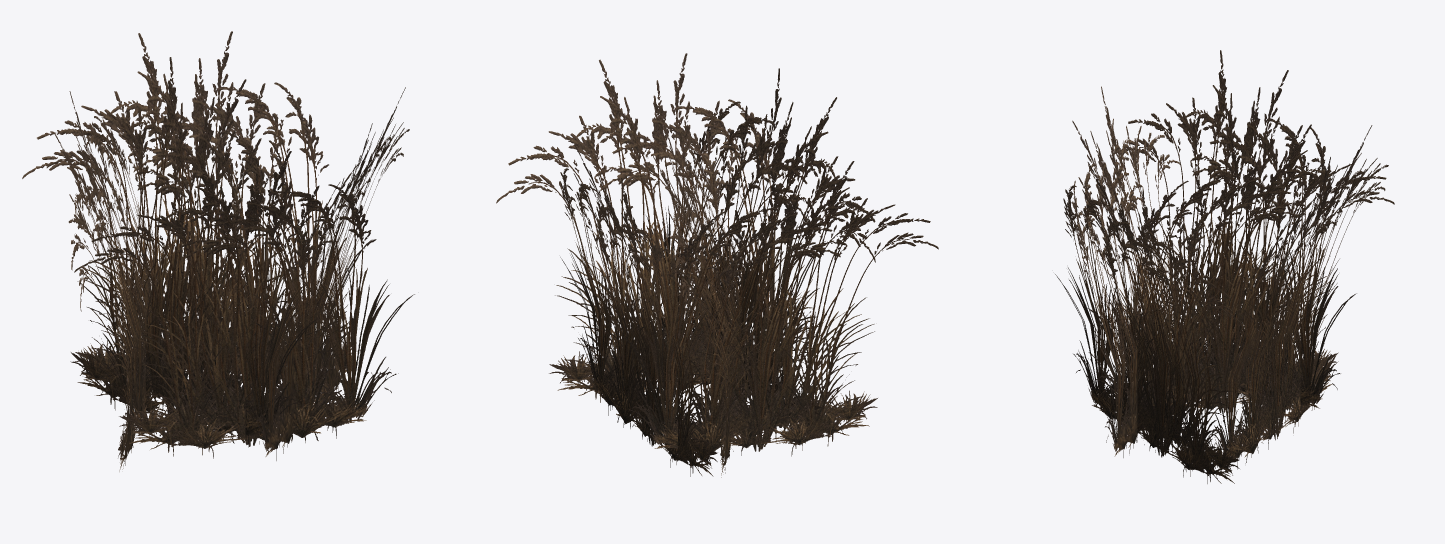
Rendered from grass_3.obj.
The picture shows the model from 3 angles, left to right: view 1: azimuth 30°, elevation 25°; view 2: azimuth 150°, elevation 25°; view 3: azimuth 270°, elevation 25°; orthographic projection. The views are drawn at different scales.
Parts seen in each view (by area): view 1: grass_3; view 2: grass_3; view 3: grass_3.
Part boxes in pixels (x1,y1,x2,y2): grass_3: (22,31,414,471); grass_3: (496,53,938,477); grass_3: (1055,50,1394,483).
Size of the model in its own units: 1.41 by 1.04 by 1.21.
